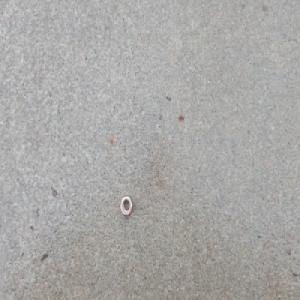Nut: (119, 195, 133, 218)
